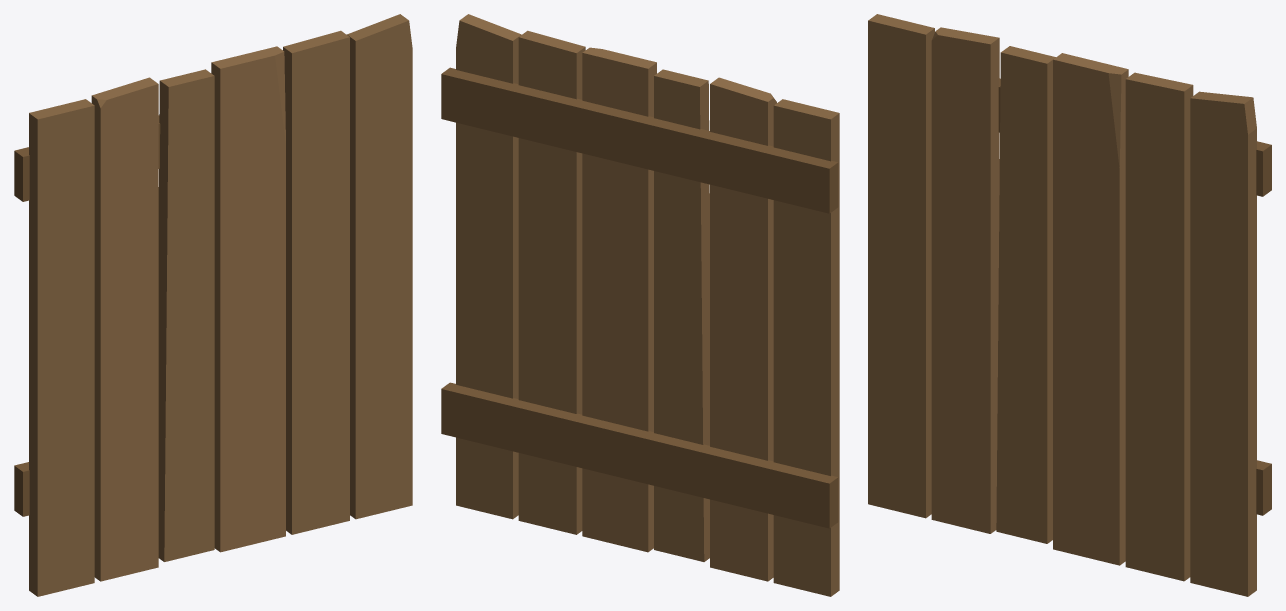
The model's file is SM_Fence_01.glb.
3 renders of one model, left to right at view 1: azimuth 30°, elevation 25°; view 2: azimuth 150°, elevation 25°; view 3: azimuth 330°, elevation 25°, orthographic.
Visible parts, largest first — view 1: SM_Fence_01; view 2: SM_Fence_01; view 3: SM_Fence_01.
Part boxes in pixels (x1=…): SM_Fence_01: x1=14, y1=14, x2=412, y2=596; SM_Fence_01: x1=441, y1=14, x2=839, y2=596; SM_Fence_01: x1=868, y1=14, x2=1271, y2=596.
Bounding box in the file's own units: 1.02 × 1.22 × 0.0766.
1 material, 1 textured.
